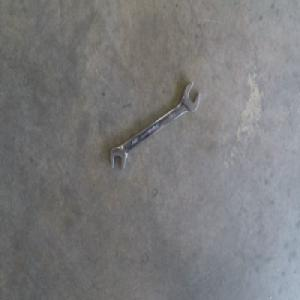Wrench: (109, 77, 199, 170)
